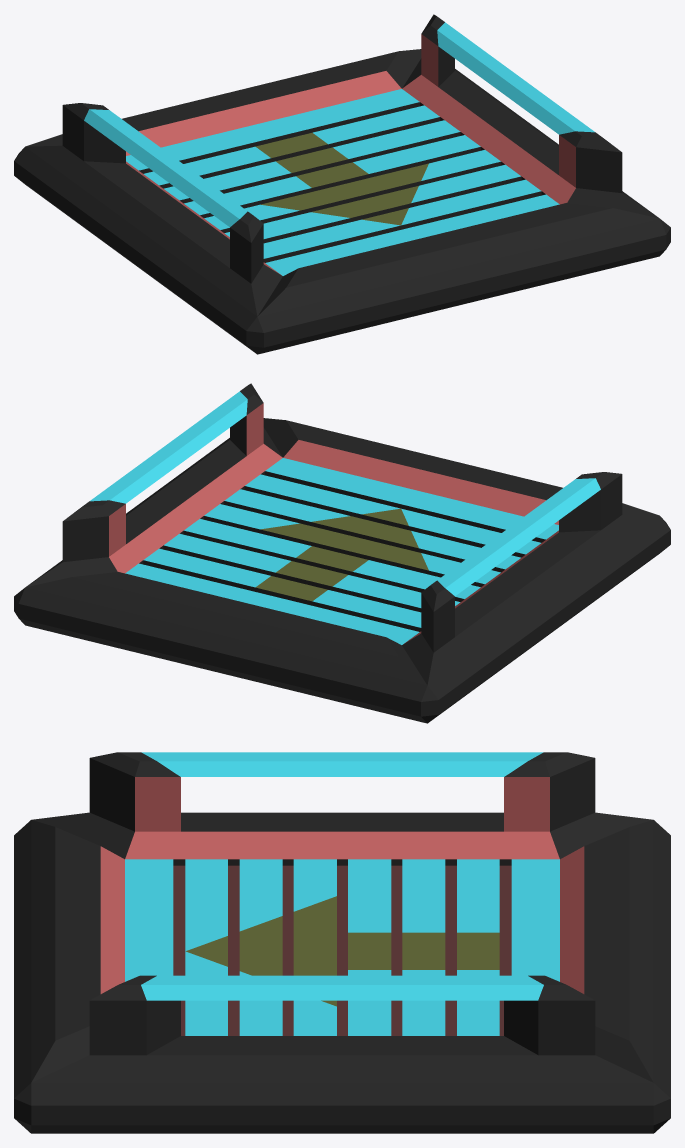
File: next.gltf
3 views of the same model, one above another, from view 1: azimuth 30°, elevation 25°; view 2: azimuth 150°, elevation 25°; view 3: azimuth 270°, elevation 25° (orthographic). The views are drawn at different scales.
Parts seen in each view (by area): view 1: goal; view 2: goal; view 3: goal.
Boxes of the visible parts, box(x1,y1,x2,y2) form: goal: box(14, 14, 670, 354); goal: box(14, 383, 670, 723); goal: box(14, 752, 670, 1133).
Size of the model in its own units: 2 by 0.4489 by 2.
1 material, 1 textured.
